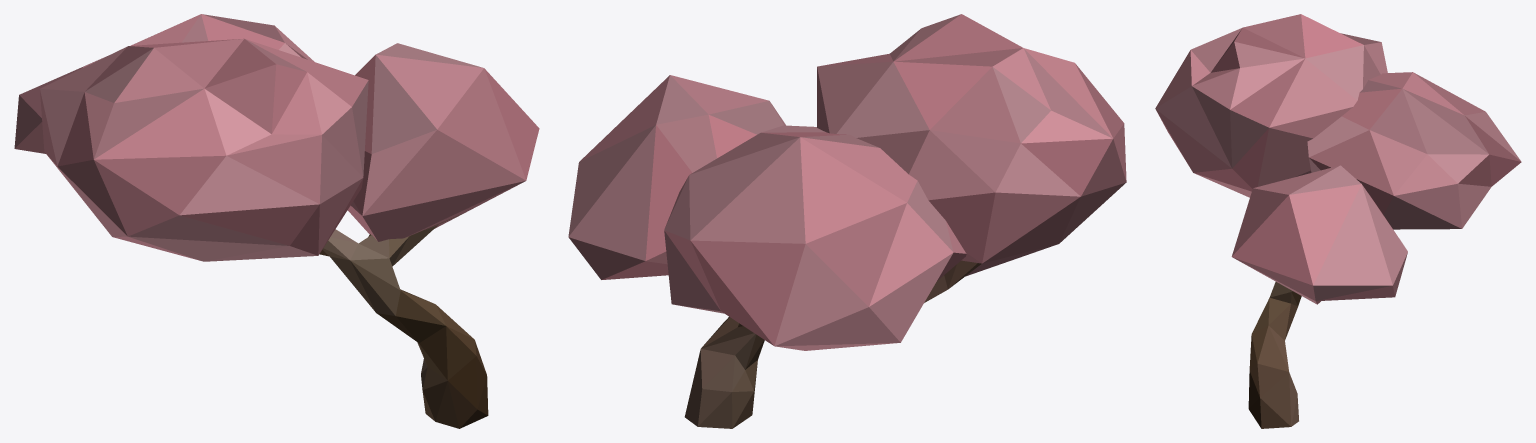
File: Tree_BlossomA.fbx
3 renders of one model, left to right at view 1: azimuth 30°, elevation 25°; view 2: azimuth 150°, elevation 25°; view 3: azimuth 270°, elevation 25°, orthographic. The views are drawn at different scales.
Parts seen in each view (by area): view 1: Tree_BlossomA; view 2: Tree_BlossomA; view 3: Tree_BlossomA.
Part boxes in pixels (x1,y1,x2,y2): Tree_BlossomA: [14, 14, 539, 428]; Tree_BlossomA: [568, 14, 1126, 428]; Tree_BlossomA: [1155, 14, 1521, 428].
Bounding box in the file's own units: 601 × 504 × 543.
